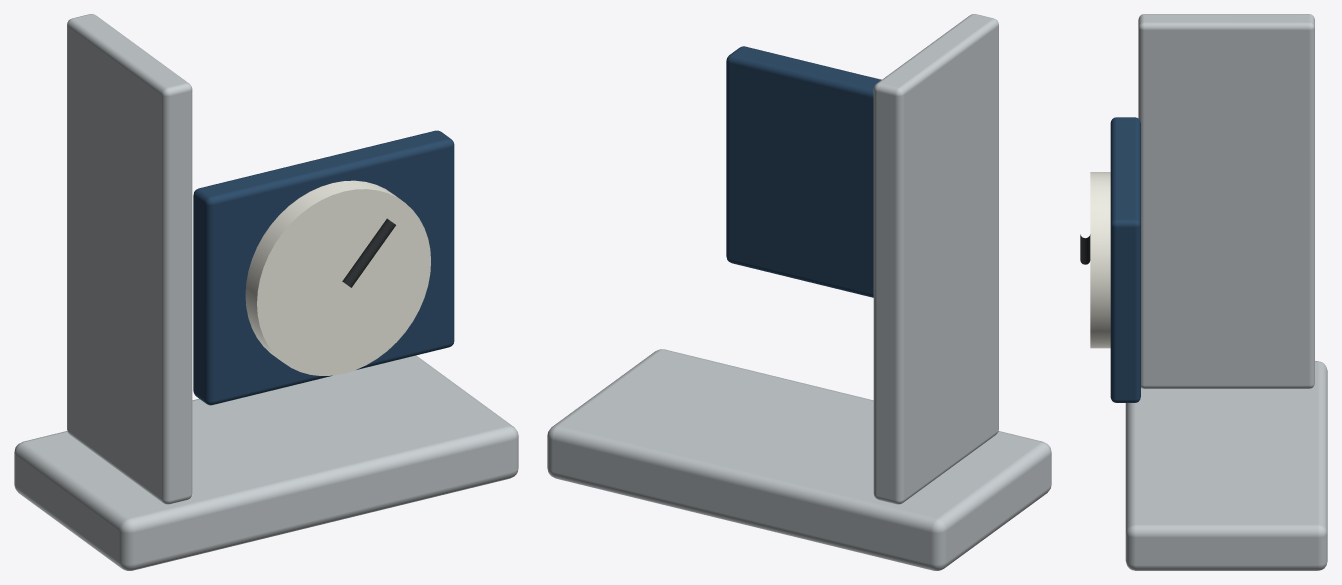
Rendered from rowing-boathouse-and-regatta-course-pitch-gauge-10c807d0__32148.glb.
3 renders of one model, left to right at view 1: azimuth 30°, elevation 25°; view 2: azimuth 150°, elevation 25°; view 3: azimuth 270°, elevation 25°, orthographic. The views are drawn at different scales.
Parts seen in each view (by area): view 1: pitch-gauge; view 2: pitch-gauge; view 3: pitch-gauge.
Part boxes in pixels (x1,y1,x2,y2): pitch-gauge: (14, 14, 518, 570); pitch-gauge: (547, 14, 1051, 570); pitch-gauge: (1080, 14, 1327, 570).
Bounding box in the file's own units: 0.16 × 0.18 × 0.098.
